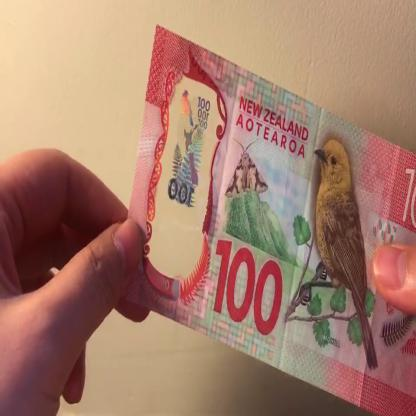100B: (162, 86, 215, 222)
